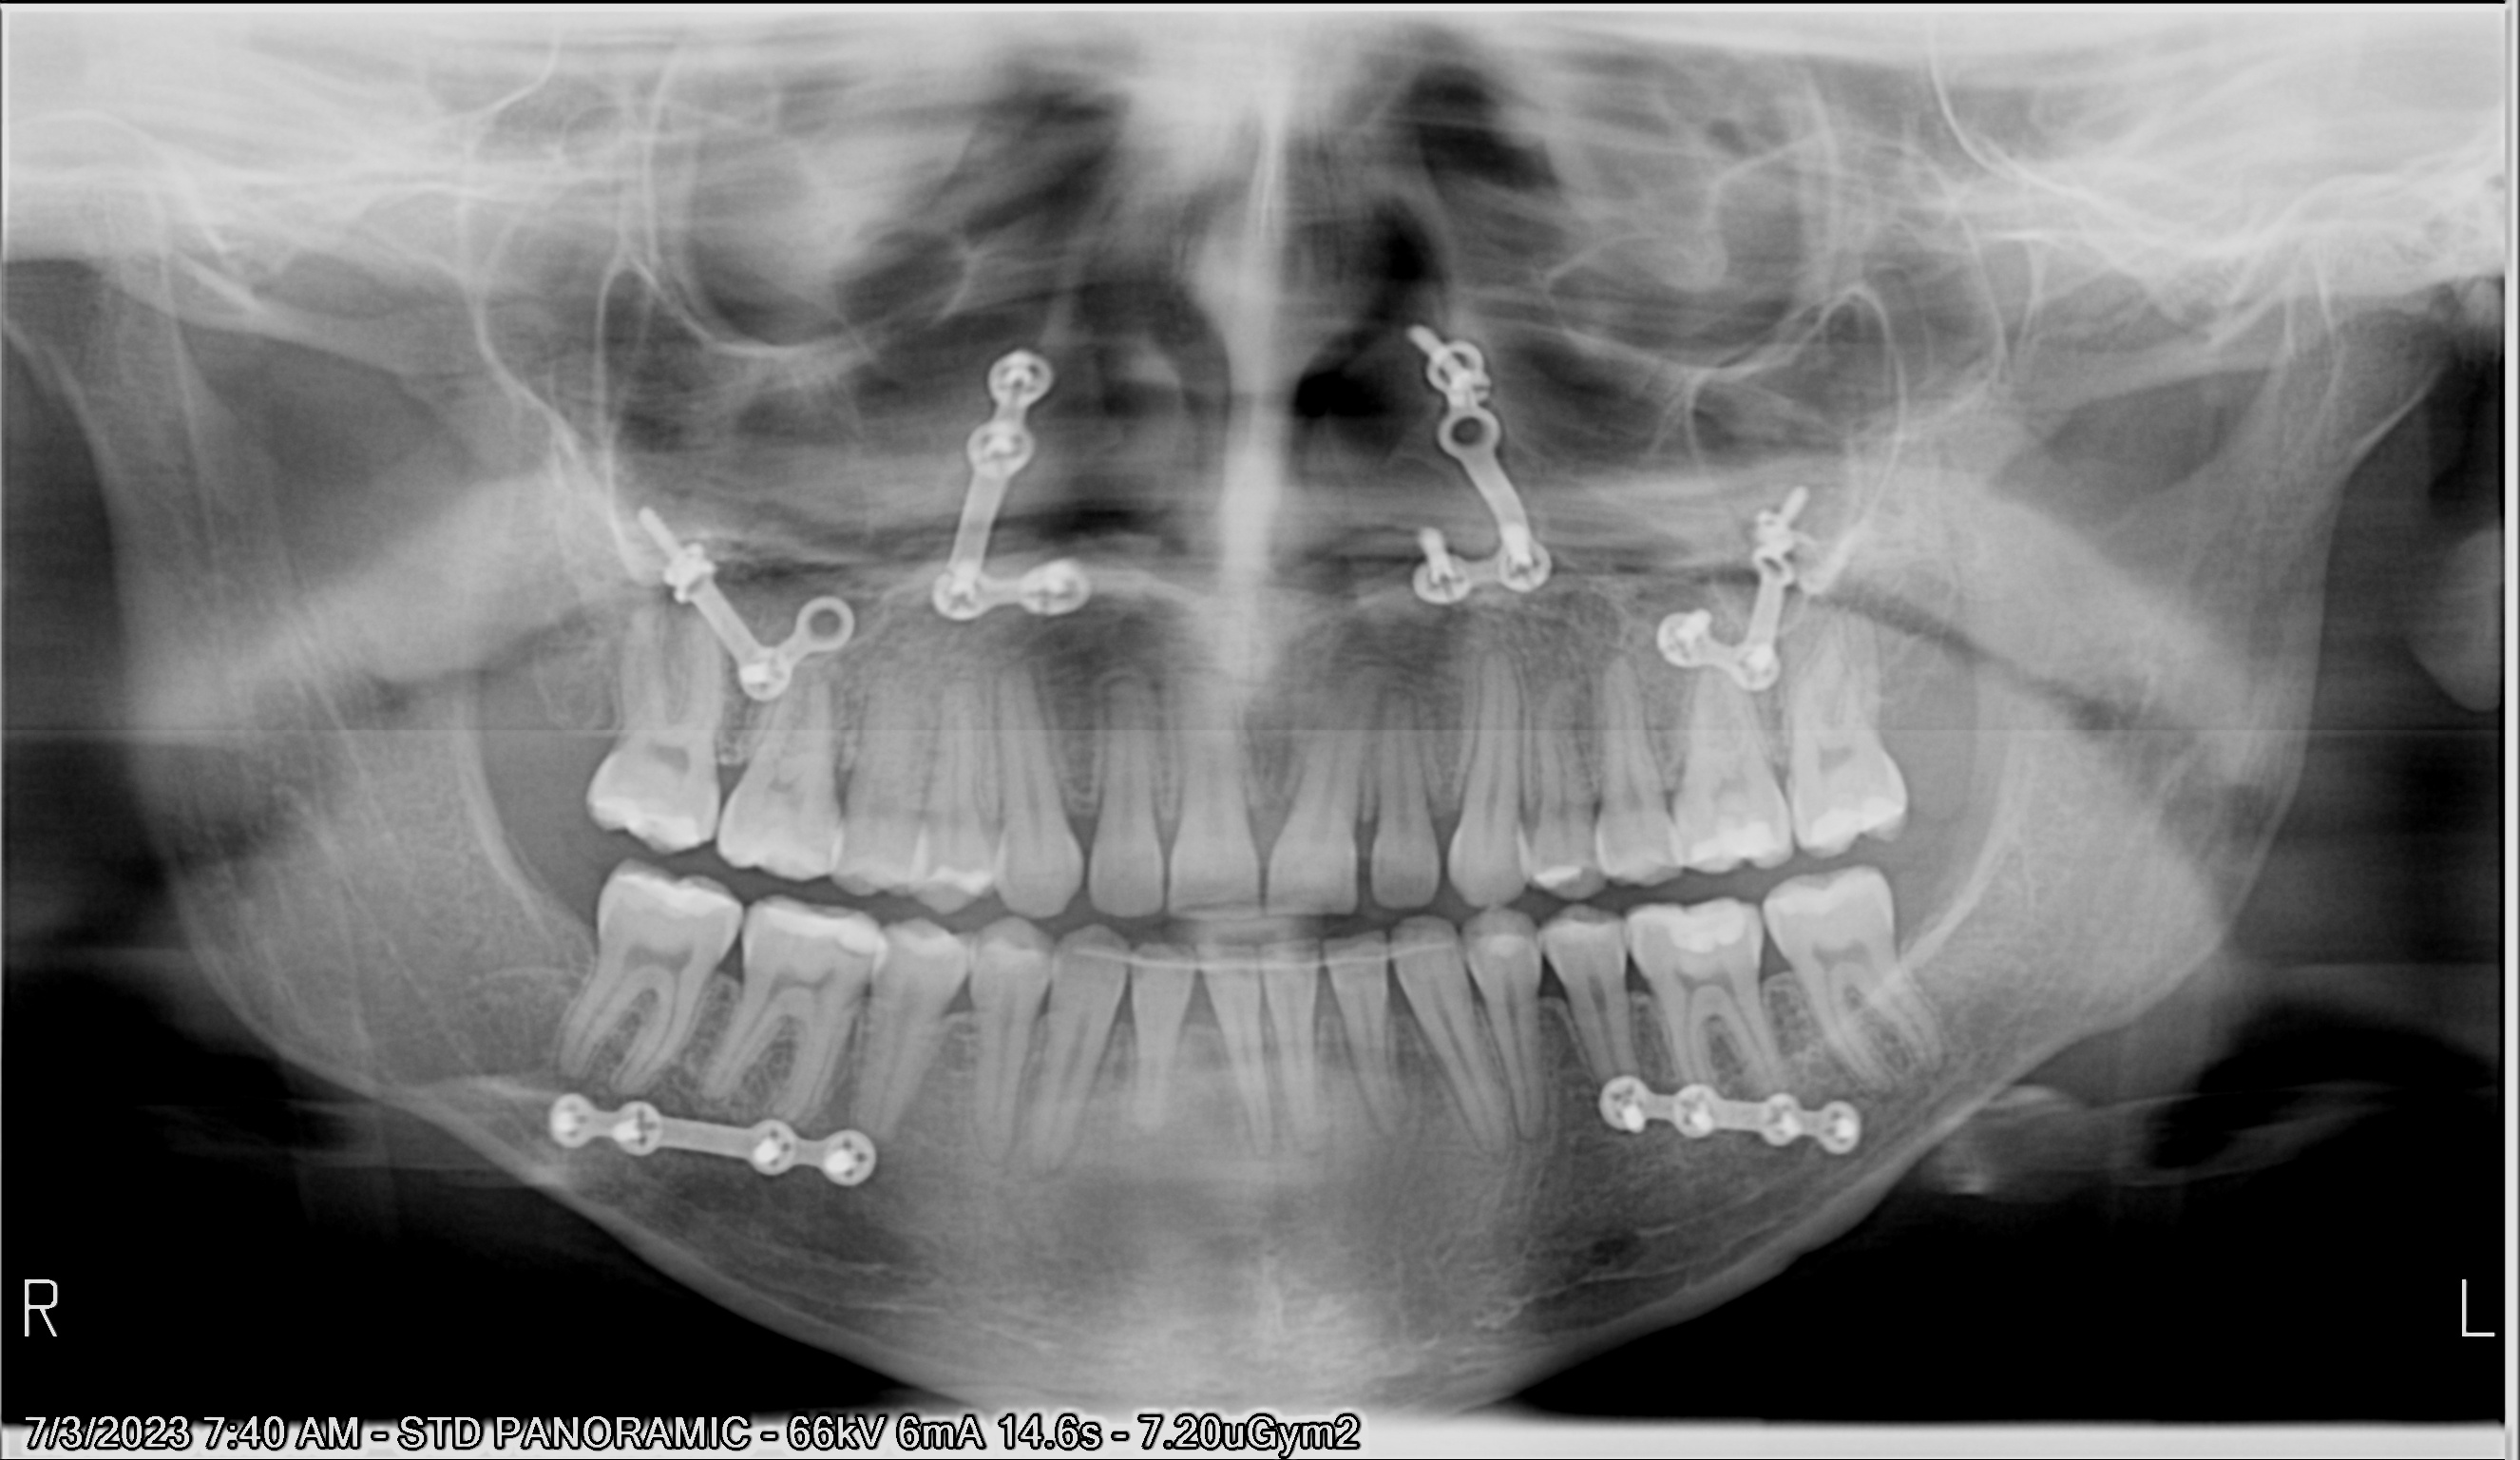OBT: (1810, 789, 1891, 848), (1688, 815, 1784, 864), (1662, 902, 1744, 951), (828, 907, 881, 966), (650, 878, 716, 918), (1534, 864, 1580, 899)
ORD: (1063, 930, 1457, 996)
SRD: (1377, 283, 1573, 627), (608, 445, 848, 711), (1646, 440, 1829, 714), (545, 1065, 887, 1208), (934, 348, 1092, 626), (1596, 1065, 1886, 1171)
